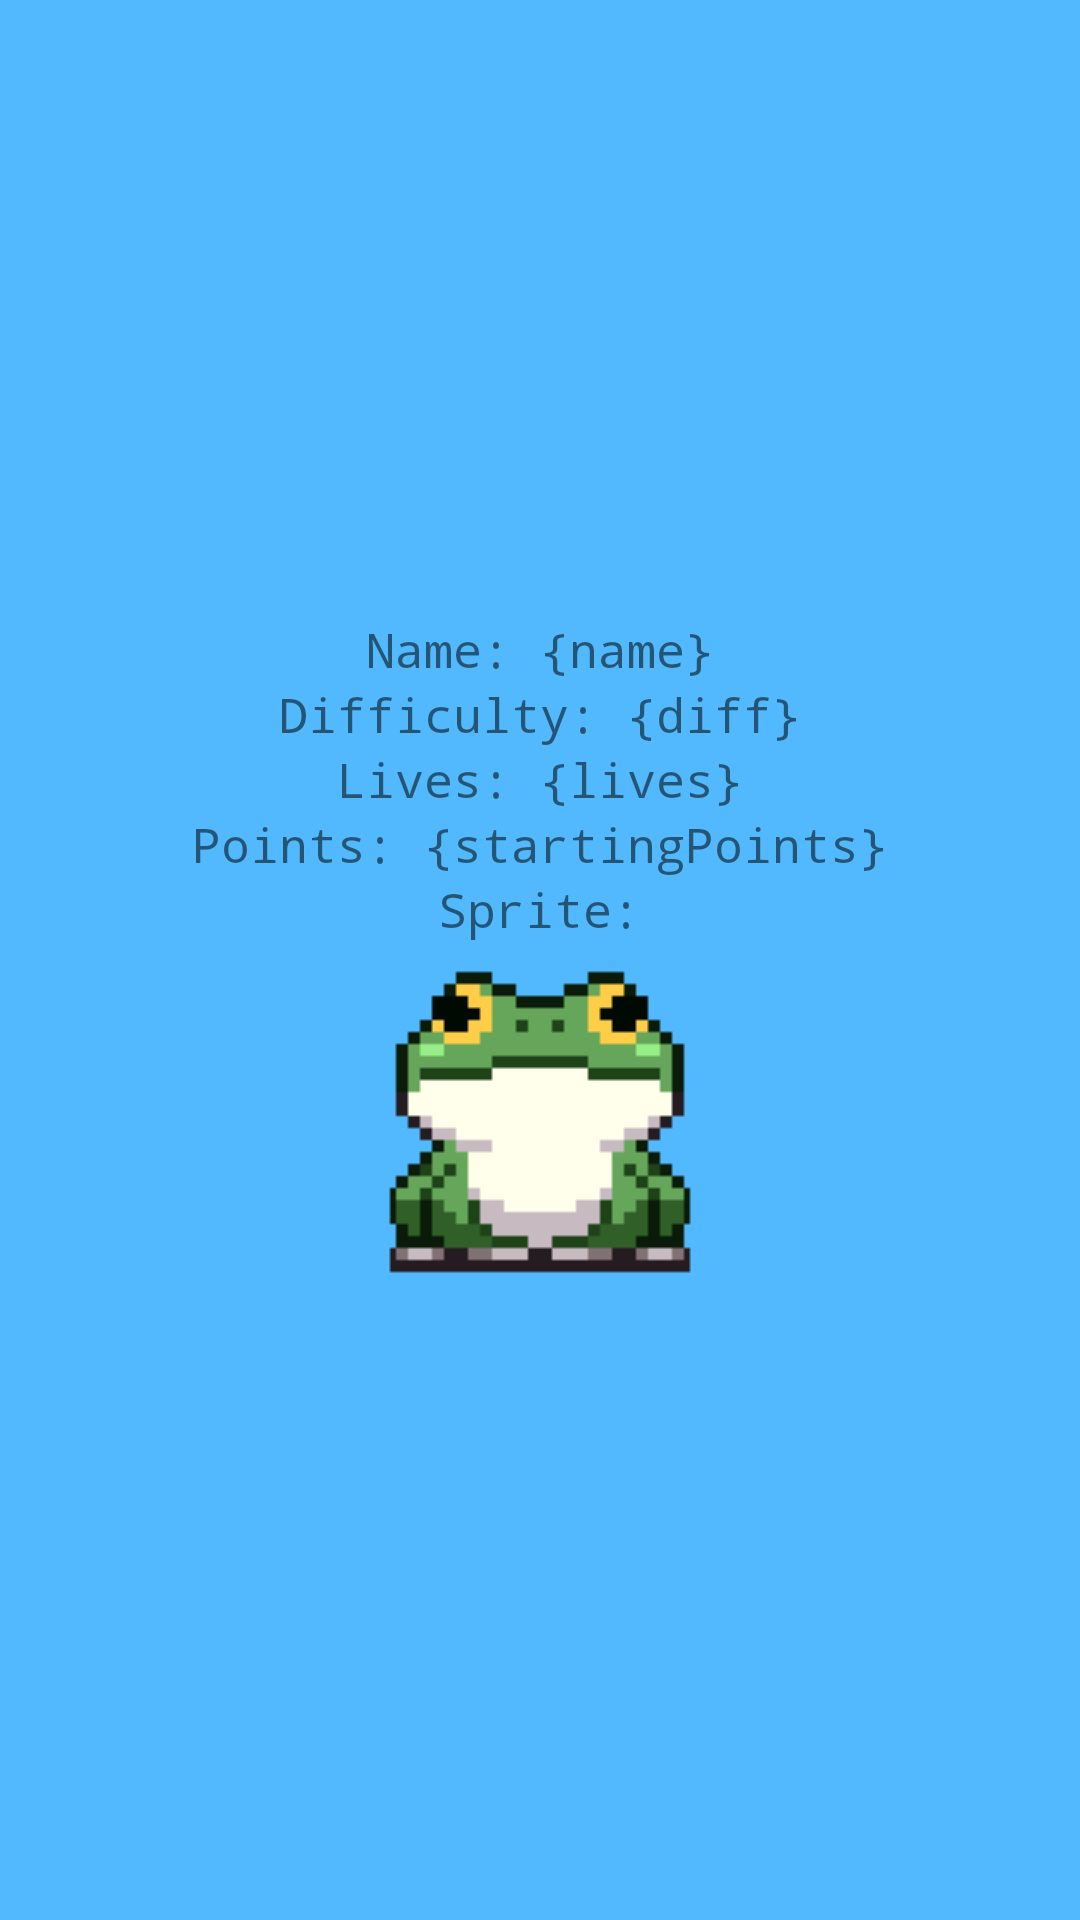

Screen size 1080*1920. Icon name, then its box in pixels as (x1, y1, x2, y2):
frog: (389, 971, 691, 1273)
